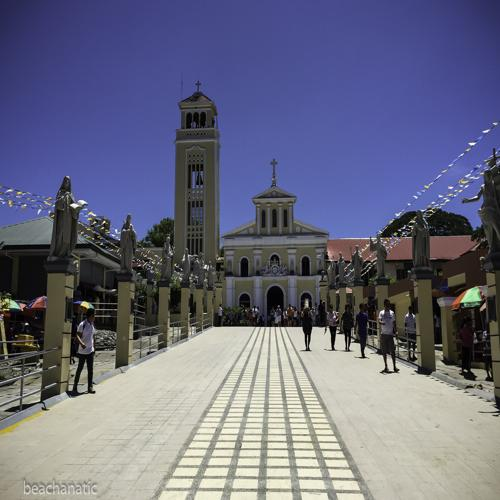Manaoag Church: (172, 77, 330, 325)
